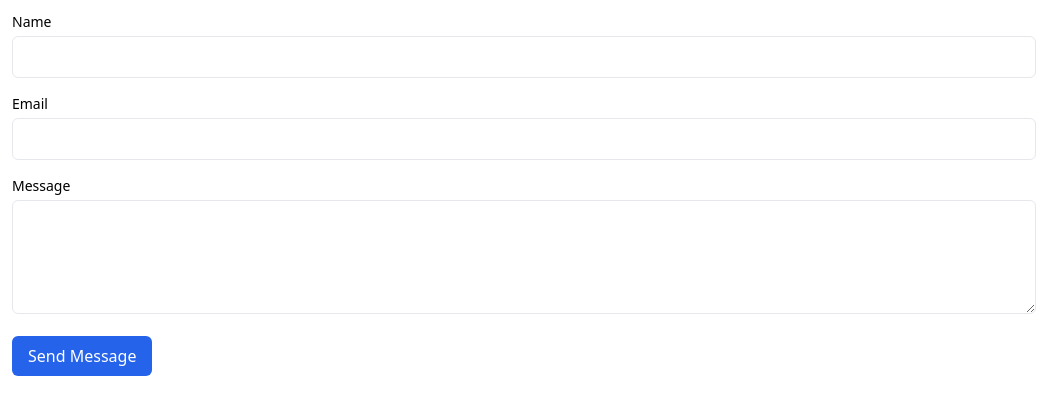
Test: ContactForm validation › shows error when name is too short
The image size is (1048, 417).
Type "A" into the field with id "name" at (524, 57), box [12,36,1036,78]
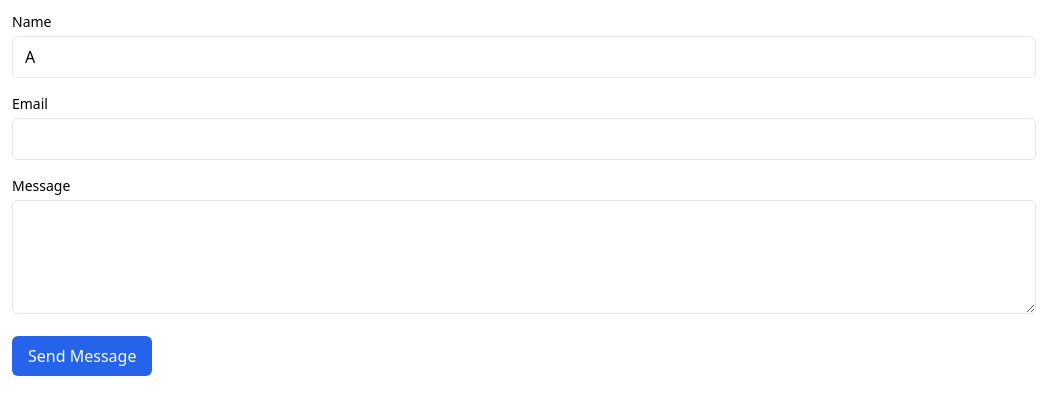
Leave the field with id "name", box [12,36,1036,78]
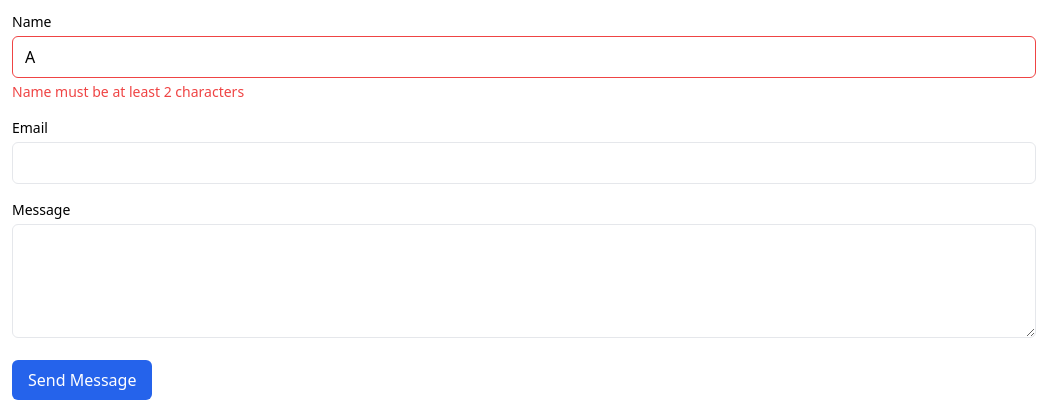
Now the text "Name must be at least 2 characters" is shown, box [12,82,244,101]
